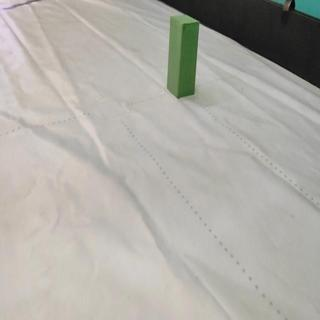greenbox: (165, 13, 201, 98)
